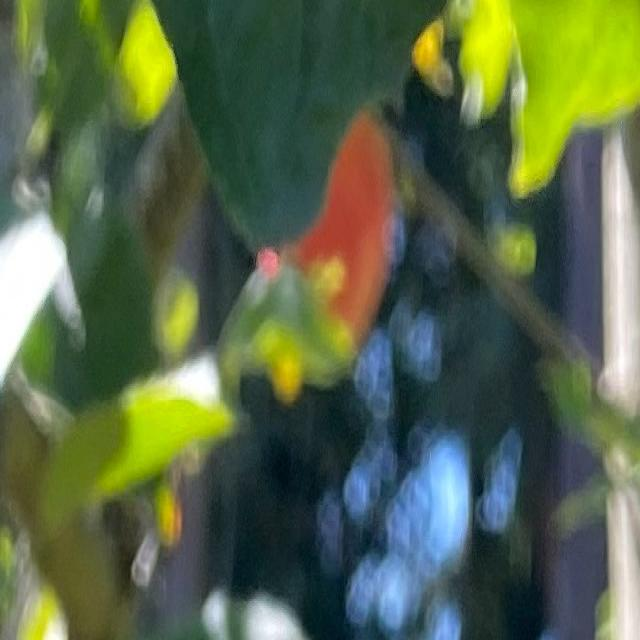Apples: (274, 110, 395, 347)
